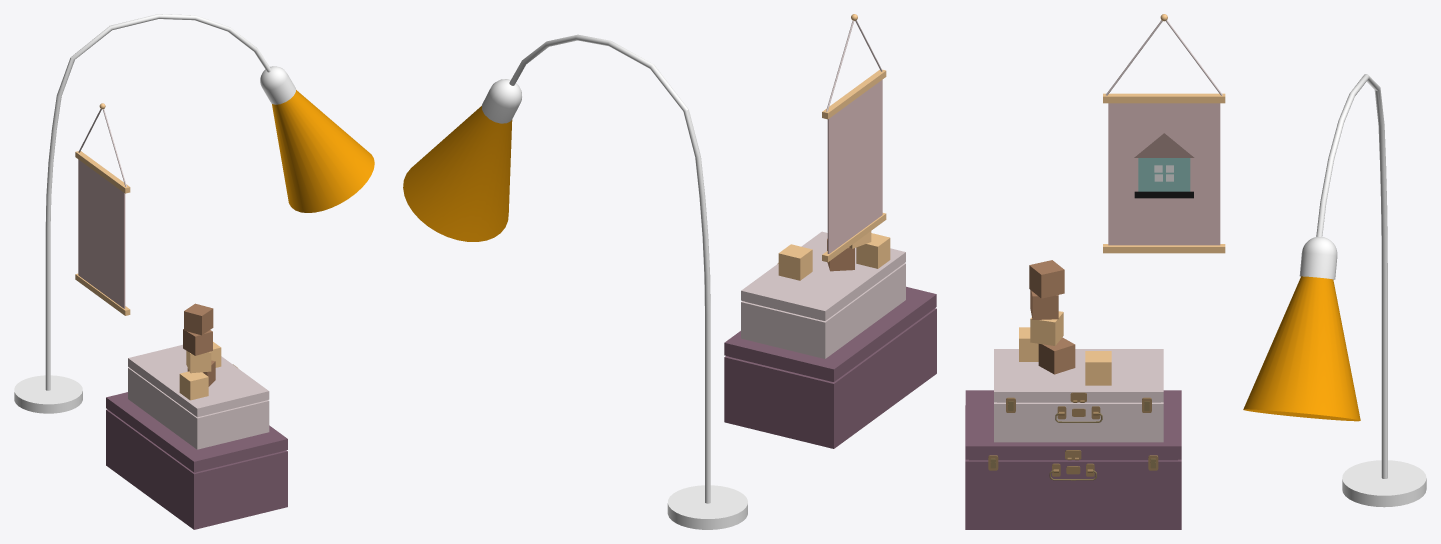
The model's file is Furn4_playzone_left_color1_joined.fbx.
3 views of the same model, side by side, from view 1: azimuth 30°, elevation 25°; view 2: azimuth 150°, elevation 25°; view 3: azimuth 270°, elevation 25° (orthographic). The views are drawn at different scales.
Visible parts, largest first — view 1: Цилиндр.065; view 2: Цилиндр.065; view 3: Цилиндр.065.
Part boxes in pixels (box(x1,y1,x2,y2)): Цилиндр.065: box(14, 14, 374, 529); Цилиндр.065: box(403, 14, 936, 529); Цилиндр.065: box(965, 14, 1426, 529).
Size of the model in its own units: 459 by 501 by 460.
